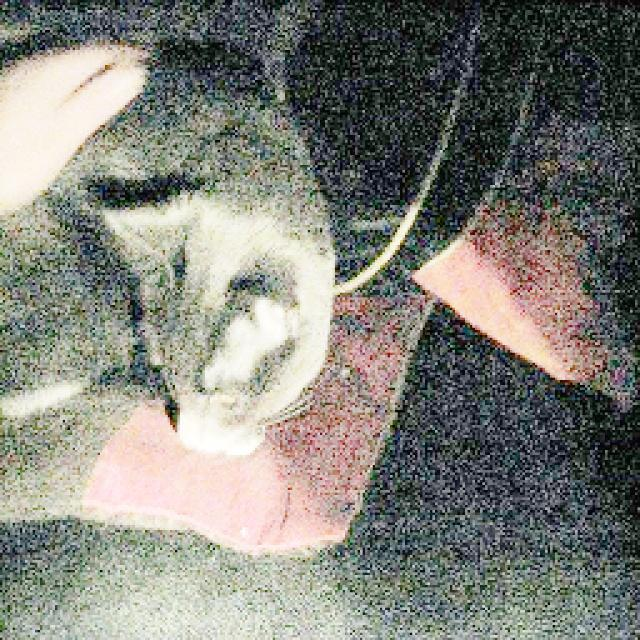cat: (1, 55, 338, 463)
